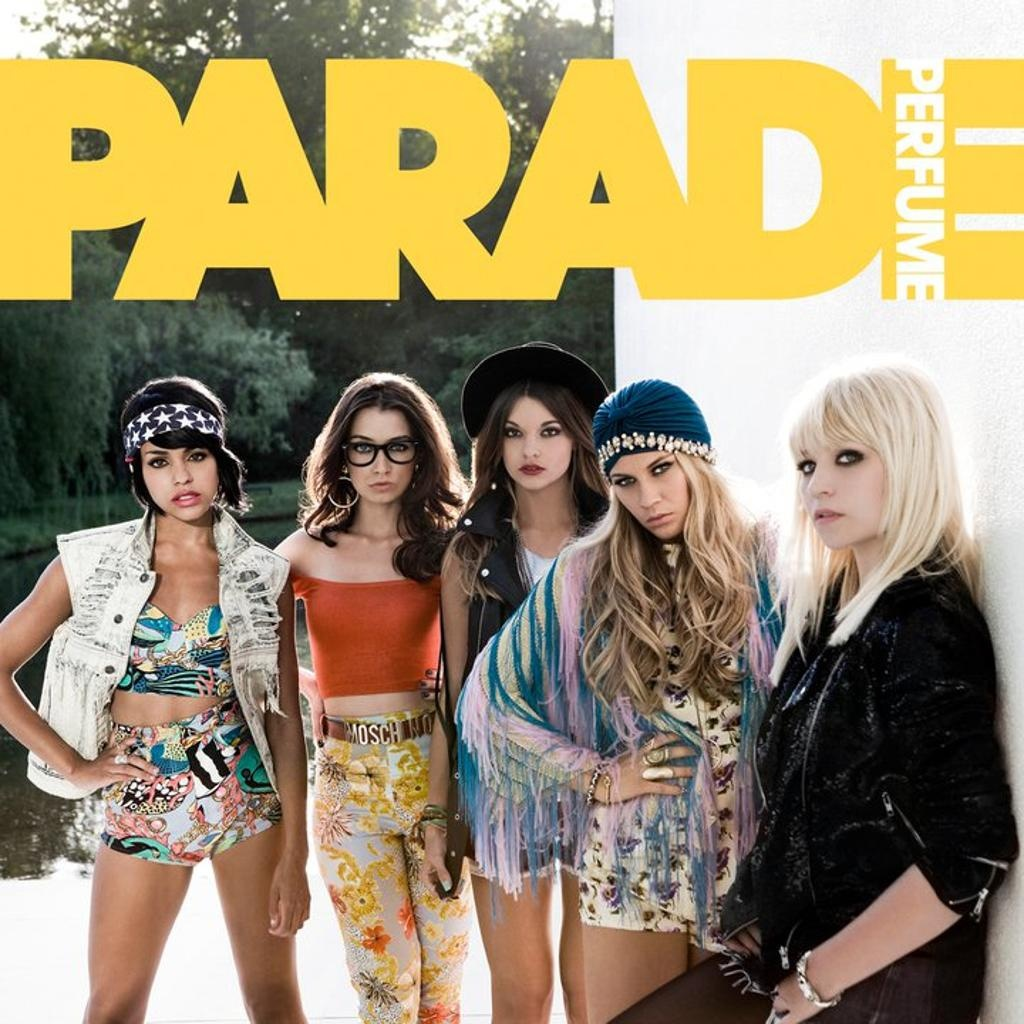human_face: (800, 414, 888, 544), (608, 448, 688, 538), (142, 424, 214, 520), (346, 412, 414, 504), (504, 400, 570, 488)
